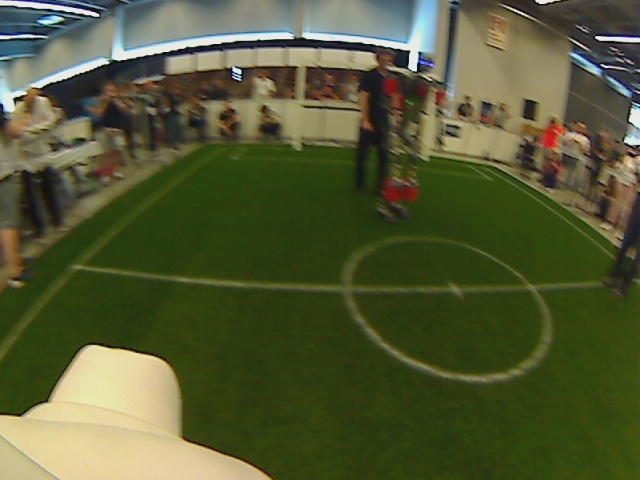goalpost: (284, 130, 312, 157), (417, 143, 445, 169)
robot: (373, 191, 418, 227)
